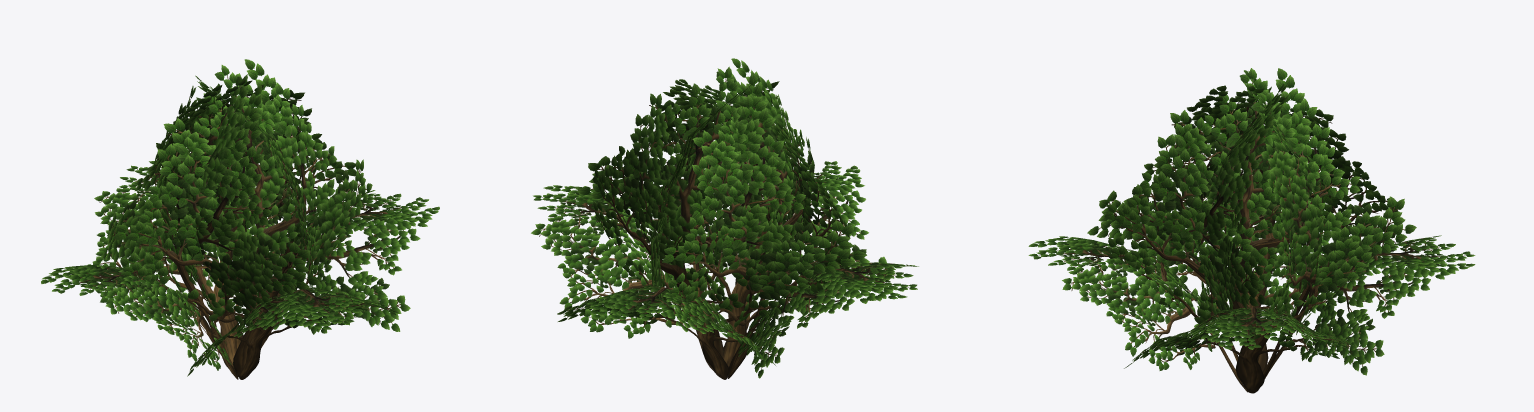
File: PlantA.fbx
3 views of the same model, side by side, from view 1: azimuth 30°, elevation 25°; view 2: azimuth 150°, elevation 25°; view 3: azimuth 270°, elevation 25° (orthographic). The views are drawn at different scales.
Parts seen in each view (by area): view 1: Mesh; view 2: Mesh; view 3: Mesh.
Part boxes in pixels (x1,y1,x2,y2): Mesh: (41, 59, 439, 379); Mesh: (531, 58, 918, 379); Mesh: (1028, 68, 1475, 393).
Bounding box in the file's own units: 381 × 280 × 381.
Materials: 1 (1 with a texture image).
